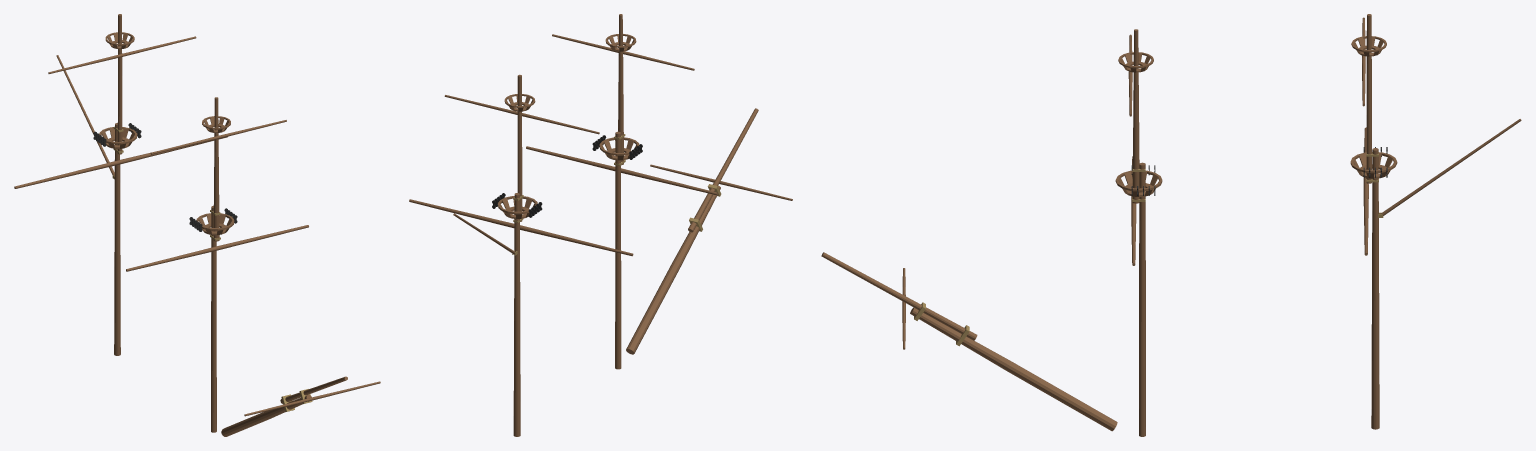
File: Ship masts destruction.fbx
The picture shows the model from 3 angles, left to right: view 1: azimuth 30°, elevation 25°; view 2: azimuth 150°, elevation 25°; view 3: azimuth 270°, elevation 25°; orthographic projection. The views are drawn at different scales.
Visible parts, largest first — view 1: no part large enough to name; view 2: BSPRIT_9, BSPRIT_5, AFTMAST_3, BSPRIT_4; view 3: BSPRIT_9, BSPRIT_5.
Boxes of the visible parts, x1=… form: BSPRIT_9: x1=626, y1=306, x2=657, y2=354; BSPRIT_5: x1=649, y1=263, x2=679, y2=310; AFTMAST_3: x1=513, y1=387, x2=520, y2=436; BSPRIT_4: x1=672, y1=226, x2=699, y2=267; BSPRIT_9: x1=1060, y1=392, x2=1117, y2=431; BSPRIT_5: x1=1007, y1=362, x2=1064, y2=400.
Size of the model in its own units: 15.82 by 24.72 by 37.31.
